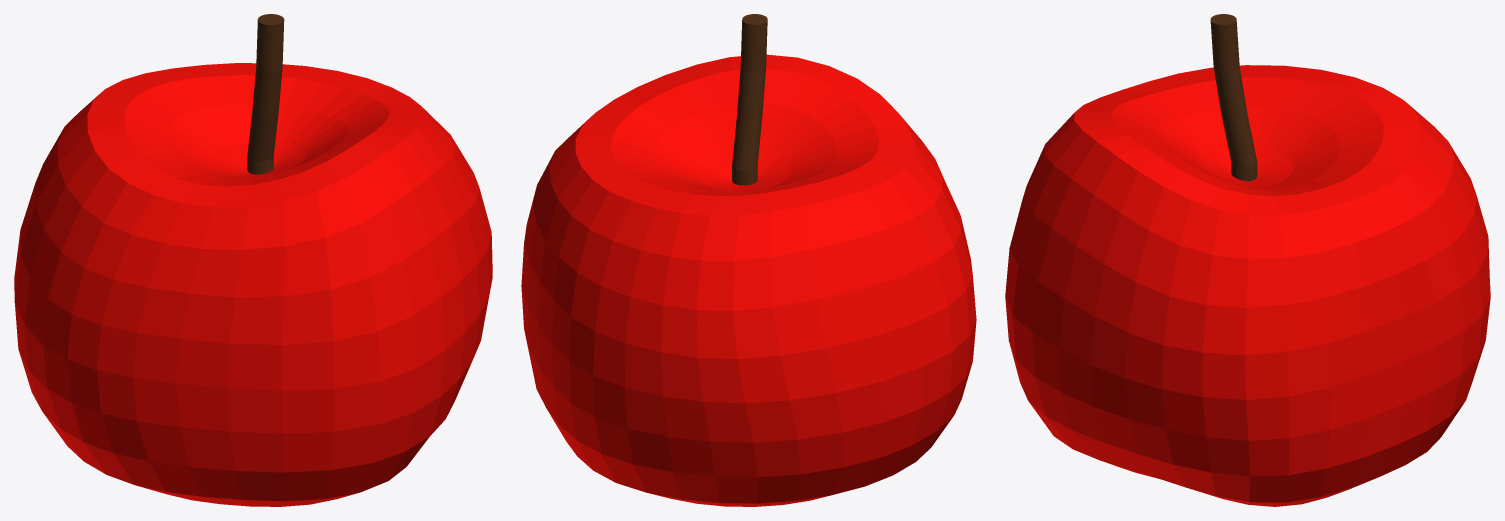
The model's file is Apple_MOD.fbx.
3 views of the same model, side by side, from view 1: azimuth 30°, elevation 25°; view 2: azimuth 150°, elevation 25°; view 3: azimuth 270°, elevation 25° (orthographic). The views are drawn at different scales.
Parts seen in each view (by area): view 1: Apple, Rabito; view 2: Apple, Rabito; view 3: Apple, Rabito.
Part boxes in pixels (bbox=[...]): Apple: bbox=[14, 63, 492, 506]; Rabito: bbox=[247, 14, 284, 174]; Apple: bbox=[521, 54, 976, 506]; Rabito: bbox=[732, 14, 767, 185]; Apple: bbox=[1005, 65, 1490, 506]; Rabito: bbox=[1210, 14, 1257, 181].
Bounding box in the file's own units: 18.74 × 17.99 × 18.58.
